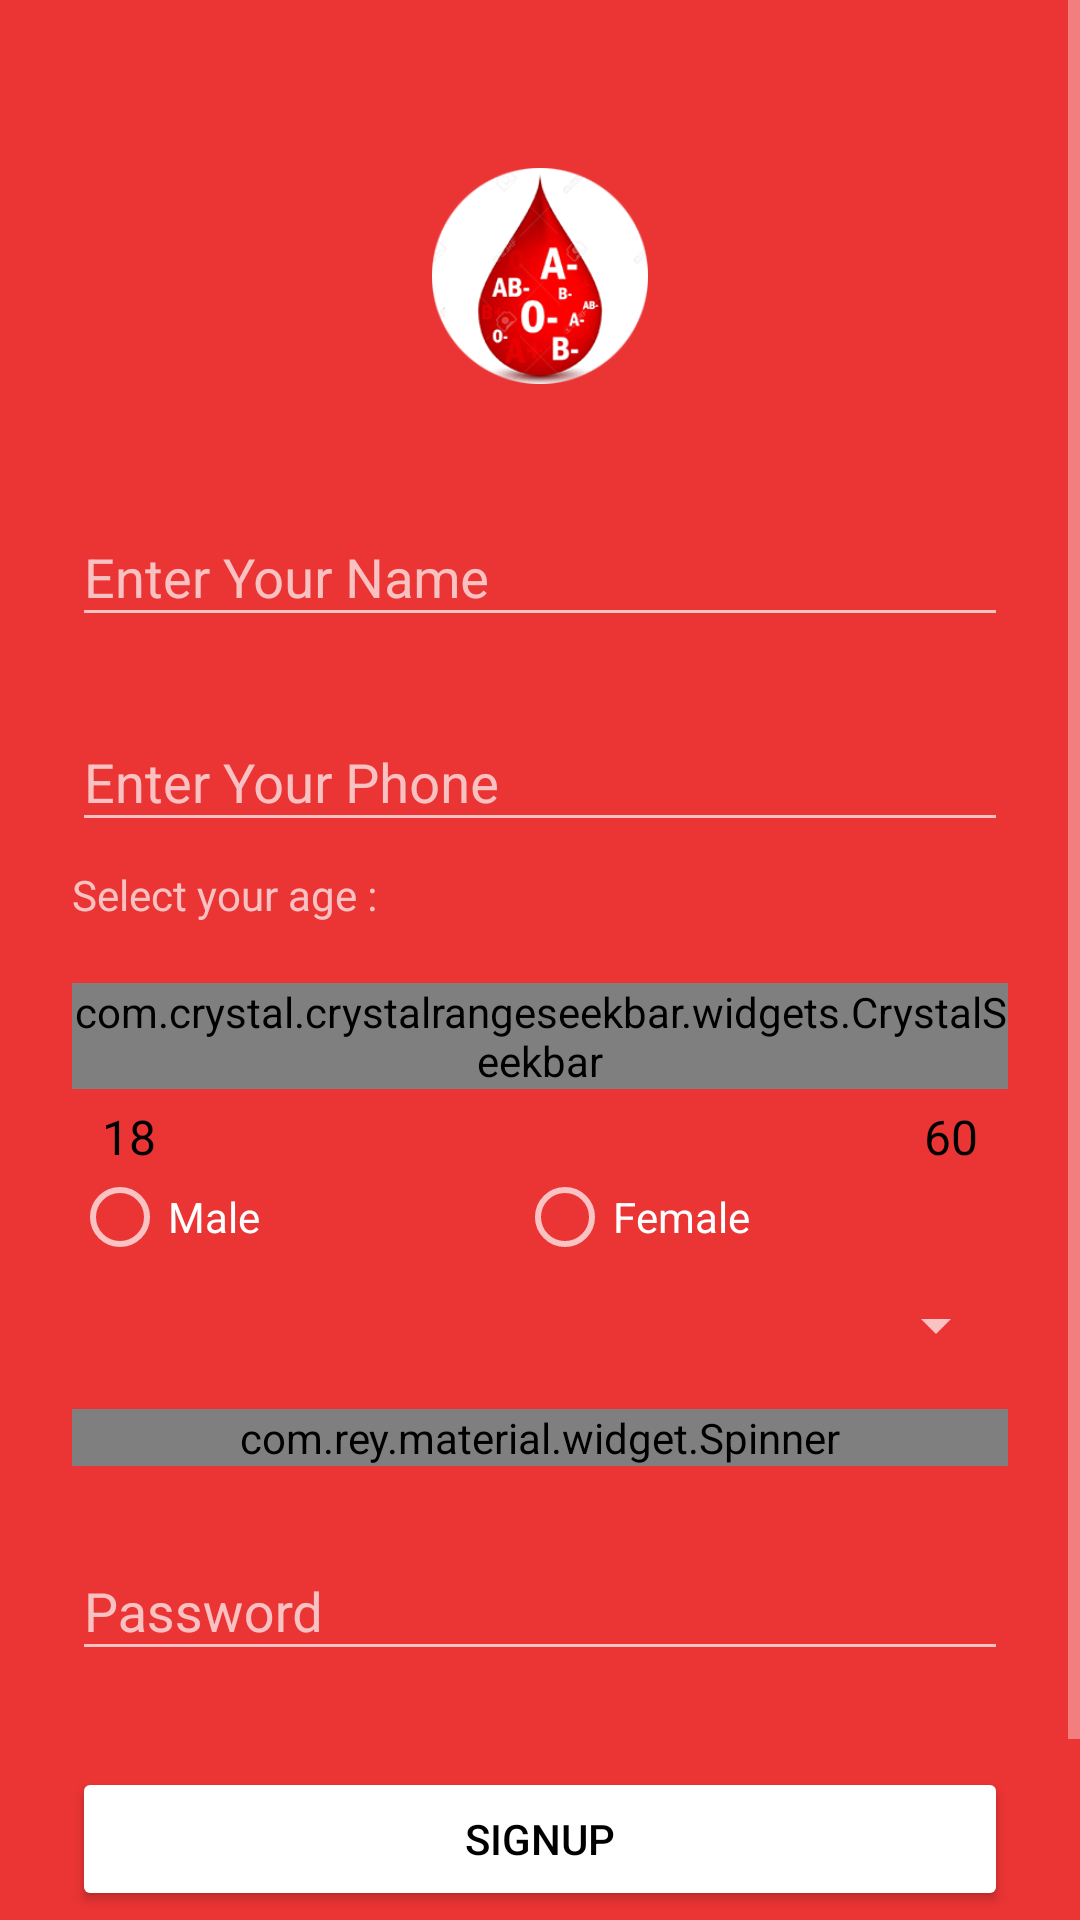

Where icons sit on this 1080×1920 app screen, as (x1, y1, x2, y2):
blood round: (432, 168, 648, 384)
